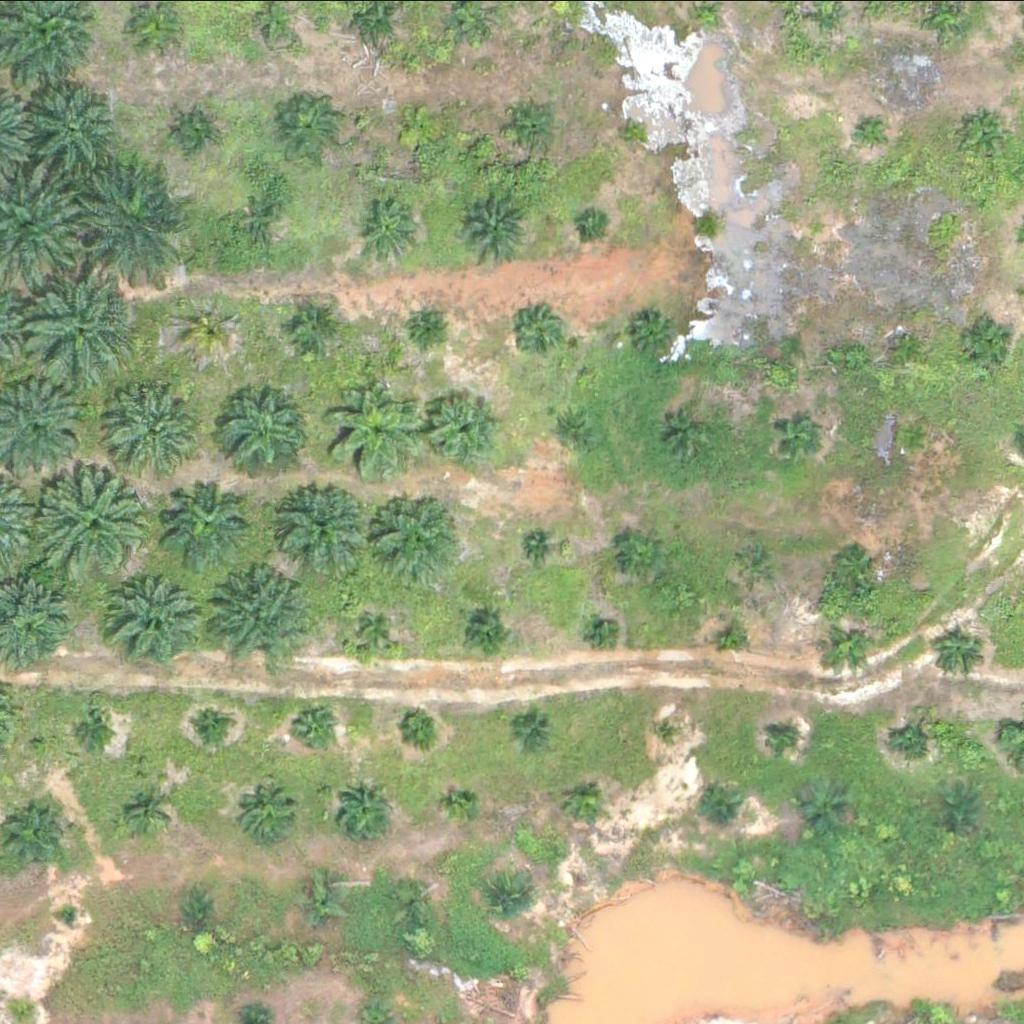Kelapa_Sawit: (71, 155, 197, 280), (37, 462, 162, 587), (29, 267, 142, 380), (110, 569, 211, 669), (320, 379, 421, 479), (212, 561, 313, 661), (114, 378, 203, 466), (421, 384, 509, 472), (32, 82, 120, 170), (370, 493, 458, 581), (278, 481, 366, 569), (165, 474, 253, 562), (210, 385, 298, 472), (457, 191, 533, 266), (9, 806, 72, 869), (280, 96, 343, 158), (359, 196, 422, 258), (336, 780, 399, 842), (229, 192, 292, 254), (830, 535, 881, 585), (960, 315, 1011, 365), (239, 789, 290, 839), (171, 111, 222, 161), (390, 102, 441, 152), (824, 622, 875, 672), (563, 776, 614, 826), (296, 873, 347, 923), (288, 301, 338, 351), (511, 96, 561, 146), (895, 714, 945, 764), (937, 627, 987, 677), (517, 307, 567, 357), (631, 304, 681, 354), (770, 407, 820, 457), (663, 407, 713, 457), (549, 400, 599, 450), (619, 527, 669, 577), (459, 608, 509, 658), (803, 780, 853, 830), (188, 300, 238, 350), (350, 605, 400, 655), (286, 700, 336, 750), (704, 788, 742, 826), (181, 895, 219, 933), (75, 701, 113, 739), (972, 110, 1010, 147), (896, 418, 933, 456), (741, 544, 778, 582), (448, 785, 485, 823), (942, 789, 980, 826), (192, 708, 230, 745), (125, 790, 163, 827), (394, 878, 431, 916), (396, 706, 434, 743), (890, 326, 928, 363), (520, 710, 557, 747), (492, 878, 529, 915), (580, 212, 606, 237), (691, 7, 716, 32), (819, 2, 844, 27), (862, 119, 887, 144), (618, 119, 643, 144), (590, 621, 615, 646), (720, 628, 745, 653), (659, 716, 684, 741), (771, 722, 796, 747), (416, 311, 441, 336), (55, 902, 80, 927), (807, 213, 832, 238), (526, 534, 551, 558)
